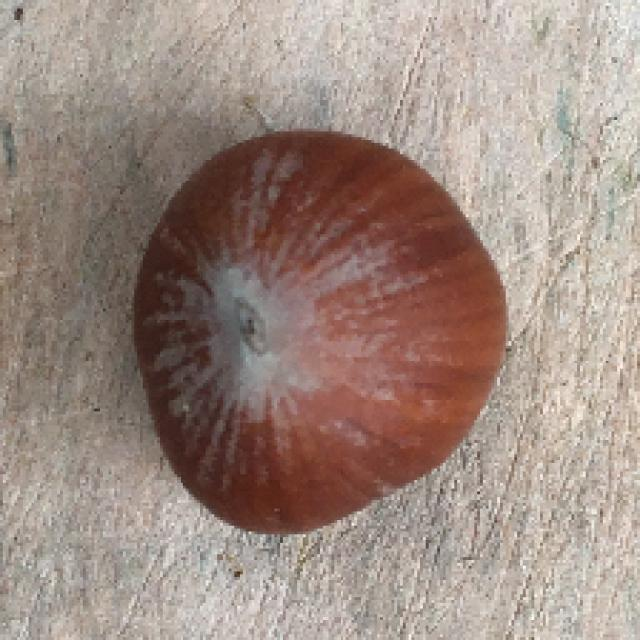QualityHazelnut: (131, 131, 508, 537)
